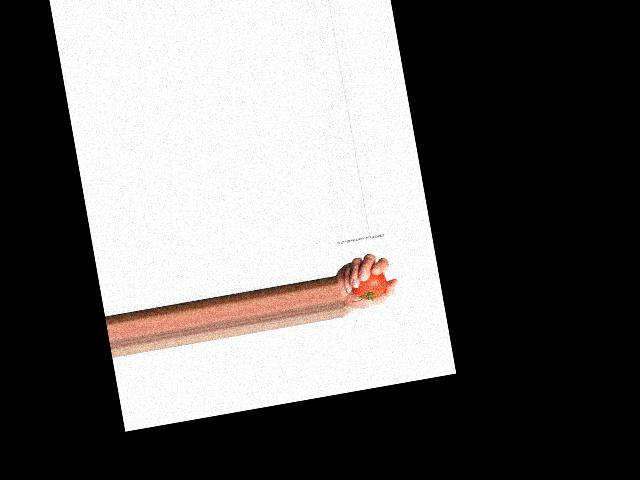tomato: (349, 271, 389, 302)
